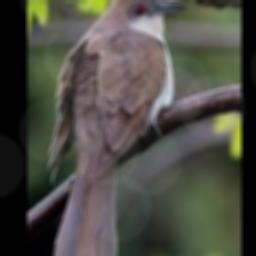Cuckoo: (46, 0, 185, 256)
